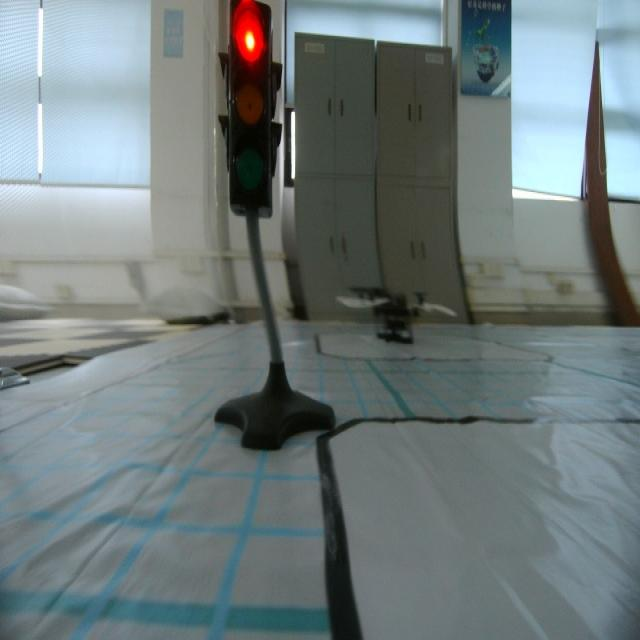red: (223, 0, 279, 219)
